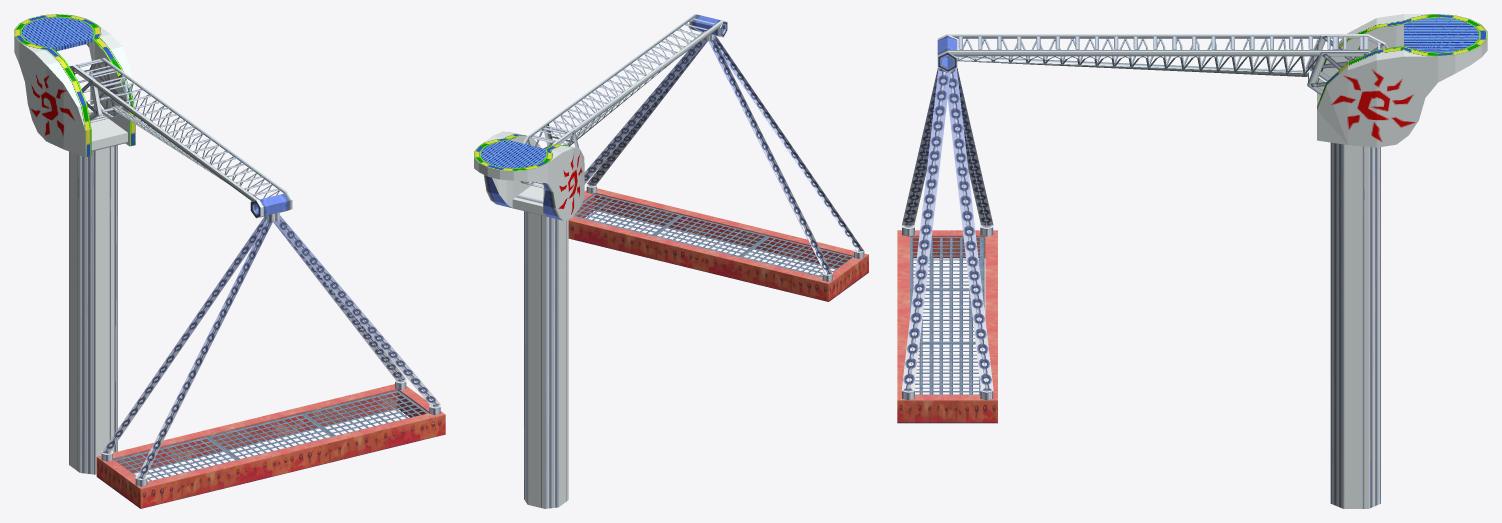
The model's file is crane_bake.dae.
The picture shows the model from 3 angles, left to right: view 1: azimuth 30°, elevation 25°; view 2: azimuth 150°, elevation 25°; view 3: azimuth 270°, elevation 25°; orthographic projection. The views are drawn at different scales.
Parts seen in each view (by area): view 1: m0, m2, m1, m1_VC; view 2: m0, m2, m1_VC, m1; view 3: m0, m2, m1, m1_VC.
Part boxes in pixels (left/top/right/bottom): m0: left=14, top=14, right=440, bottom=486; m2: left=96, top=384, right=445, bottom=508; m1: left=103, top=217, right=439, bottom=478; m1_VC: left=101, top=215, right=440, bottom=479; m0: left=474, top=14, right=864, bottom=508; m2: left=568, top=188, right=868, bottom=301; m1_VC: left=584, top=36, right=864, bottom=275; m1: left=584, top=37, right=862, bottom=274; m0: left=902, top=14, right=1487, bottom=508; m2: left=897, top=230, right=997, bottom=423; m1: left=903, top=71, right=991, bottom=390; m1_VC: left=901, top=67, right=993, bottom=391.
Size of the model in its own units: 1600 by 2031 by 2346.
Materials: 4 (4 with a texture image).
